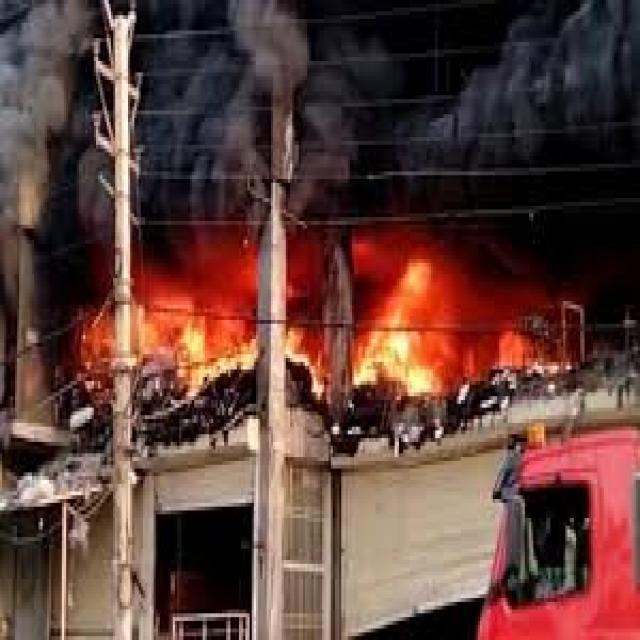fire: (352, 240, 463, 400), (134, 286, 256, 388)
smoke: (2, 4, 636, 225)
